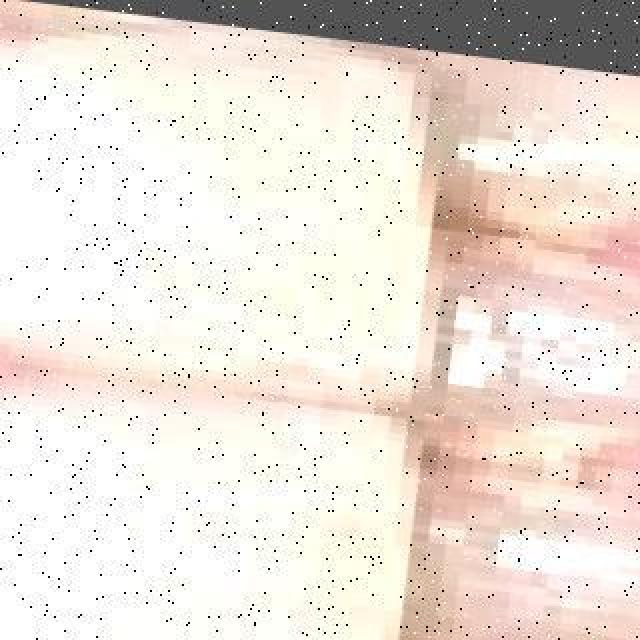calculus: (428, 406, 640, 568), (463, 140, 633, 312)
